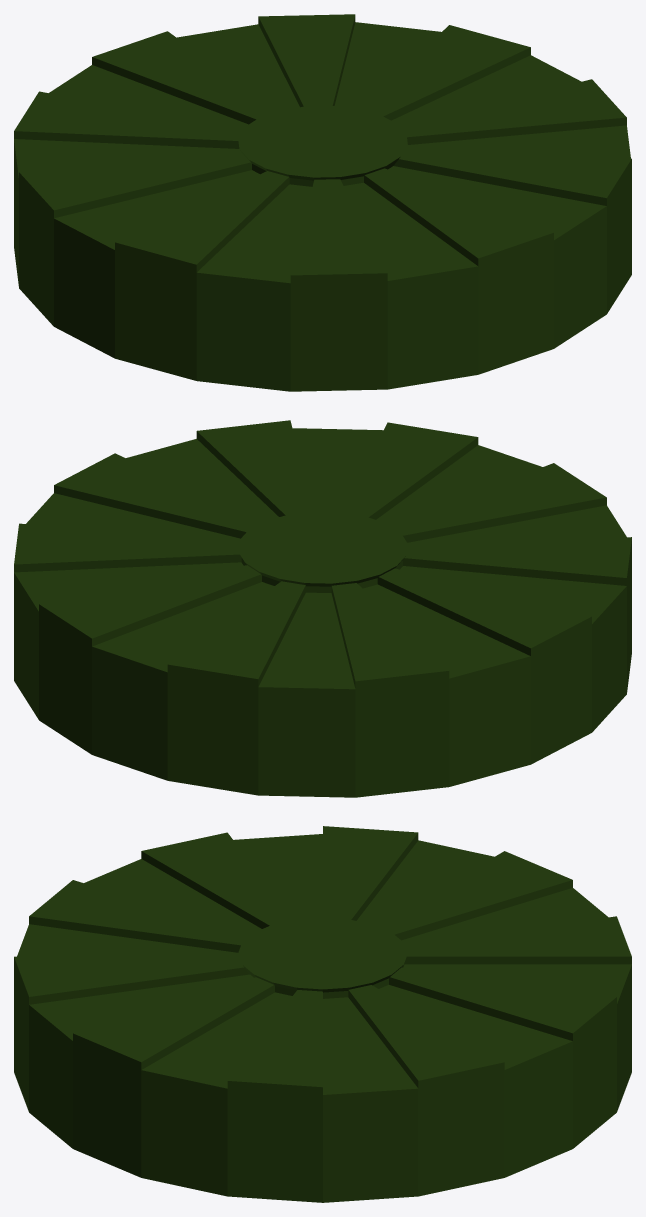
Rendered from landmine.fbx.
3 renders of one model, top to bottom at view 1: azimuth 30°, elevation 25°; view 2: azimuth 150°, elevation 25°; view 3: azimuth 270°, elevation 25°, orthographic.
Parts seen in each view (by area): view 1: Cylinder; view 2: Cylinder; view 3: Cylinder.
Boxes of the visible parts, box(x1,y1,x2,y2) form: Cylinder: box(14, 14, 631, 391); Cylinder: box(14, 420, 631, 797); Cylinder: box(14, 826, 631, 1202).
Bounding box in the file's own units: 102 × 21.53 × 102.
